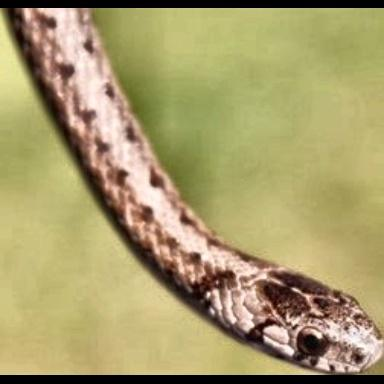snake: (6, 8, 384, 374)
